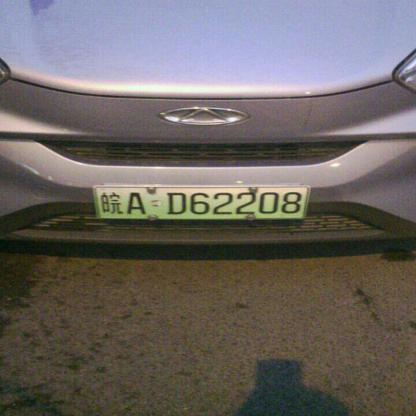lp: (93, 186, 310, 218)
